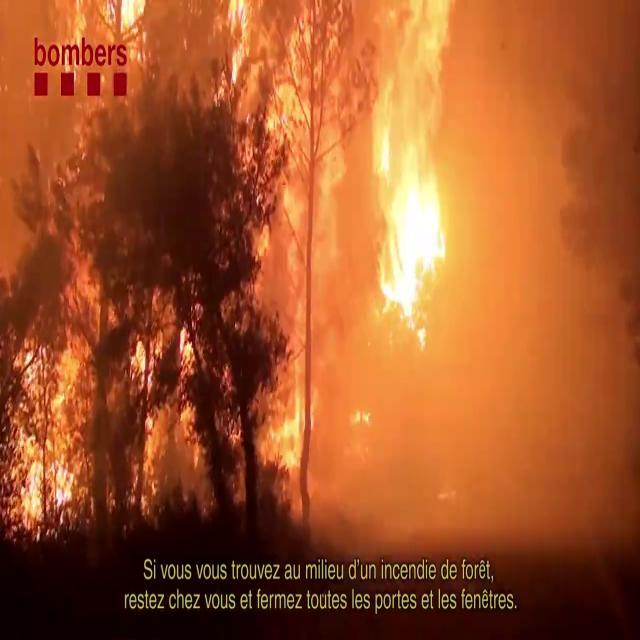Fire: (218, 0, 468, 333), (0, 288, 110, 537), (124, 283, 213, 521)
Smoke: (436, 1, 640, 567), (124, 282, 214, 522)
